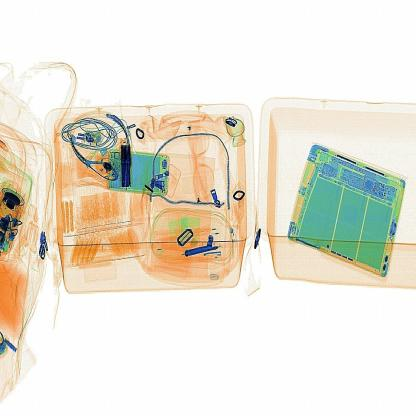scissors: (114, 131, 148, 187)
